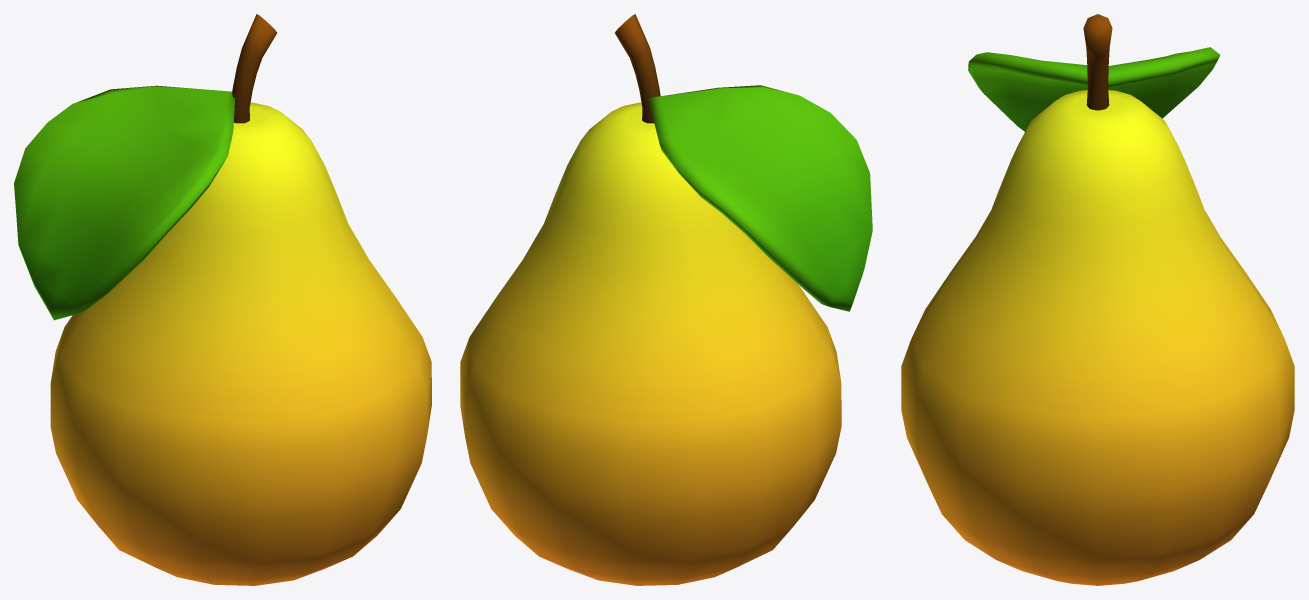
File: Farm_Tree_Product_Pear_01.fbx
3 views of the same model, side by side, from view 1: azimuth 30°, elevation 25°; view 2: azimuth 150°, elevation 25°; view 3: azimuth 270°, elevation 25° (orthographic). The views are drawn at different scales.
Parts seen in each view (by area): view 1: Farm_Tree_Product_Pear_01; view 2: Farm_Tree_Product_Pear_01; view 3: Farm_Tree_Product_Pear_01.
Boxes of the visible parts, <box> form: Farm_Tree_Product_Pear_01: <box>14,14,431,585</box>; Farm_Tree_Product_Pear_01: <box>460,14,872,585</box>; Farm_Tree_Product_Pear_01: <box>901,14,1294,585</box>.
Size of the model in its own units: 29.51 by 42.01 by 27.07.
